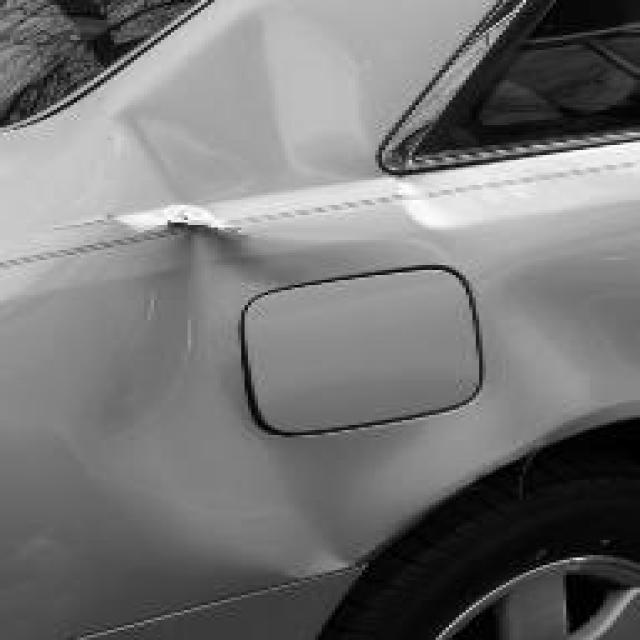Fender: (30, 150, 560, 540)
